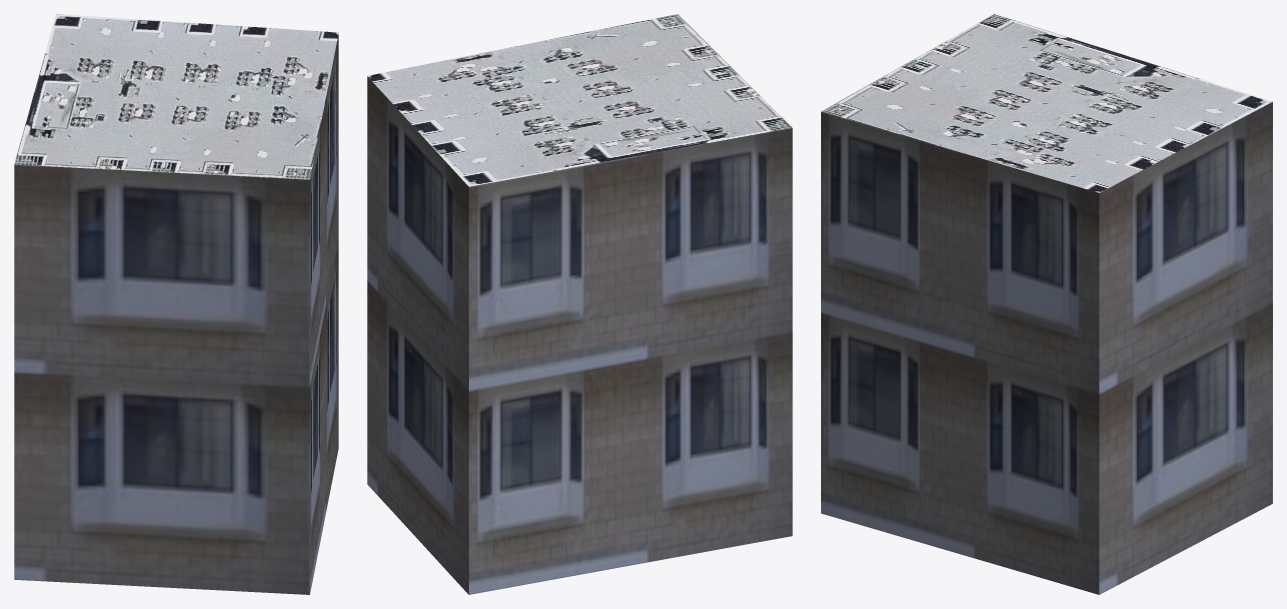
File: ResTex__589.fbx
3 views of the same model, side by side, from view 1: azimuth 30°, elevation 25°; view 2: azimuth 150°, elevation 25°; view 3: azimuth 270°, elevation 25° (orthographic). The views are drawn at different scales.
Parts seen in each view (by area): view 1: CityEngineMaterial_3_m, CityEngineMaterial_8_m; view 2: CityEngineMaterial_3_m, CityEngineMaterial_8_m; view 3: CityEngineMaterial_3_m, CityEngineMaterial_8_m.
Boxes of the visible parts, x1,y1,x2,y2 form: CityEngineMaterial_3_m: (14,34,338,594); CityEngineMaterial_8_m: (14,14,338,179); CityEngineMaterial_3_m: (367,76,792,594); CityEngineMaterial_8_m: (367,14,792,186); CityEngineMaterial_3_m: (821,102,1272,594); CityEngineMaterial_8_m: (821,14,1272,192).
Bounding box in the file's own units: 5.73 × 6 × 6.11.
2 materials, 2 textured.
